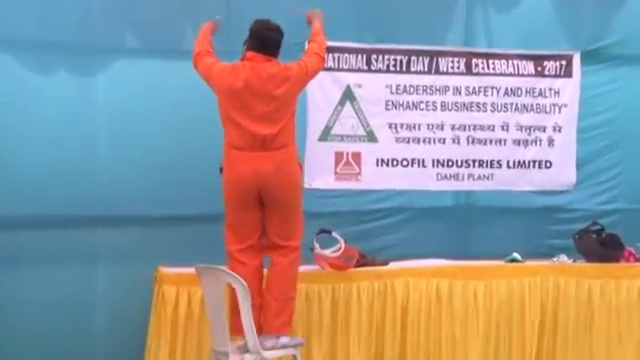helmet_off: (242, 19, 285, 60)
person: (188, 13, 324, 350)
